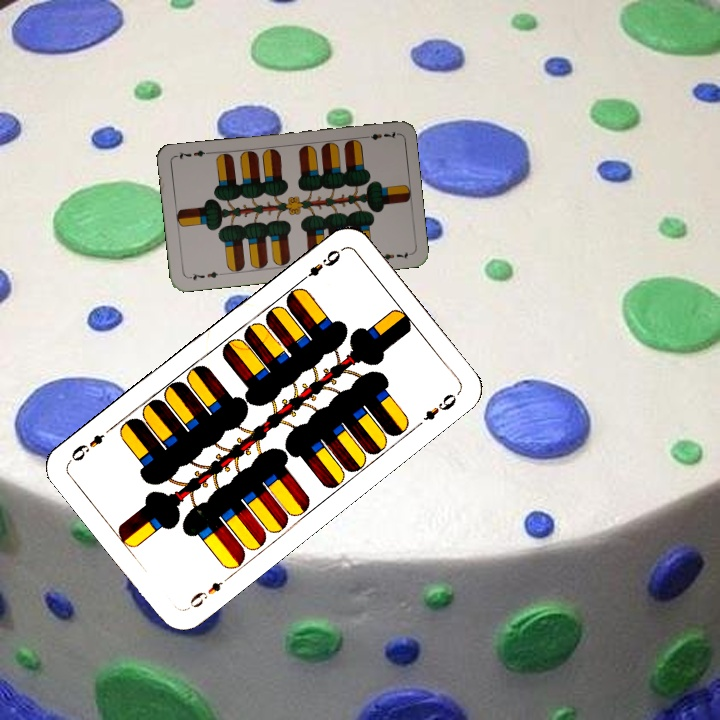E7: (184, 267, 225, 282), (359, 128, 400, 143)
E9: (183, 571, 234, 612), (295, 245, 343, 286)
